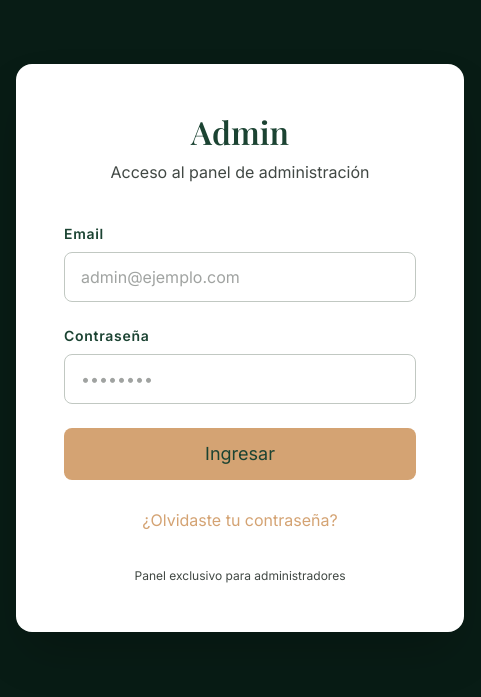
Test: LoginPage › Password reset › shows error when email is empty on reset
The image size is (481, 697).
Note: Click forgot password without entering email
Click the button "¿Olvidaste tu contraseña?": x=240, y=520 [64, 496, 416, 544]
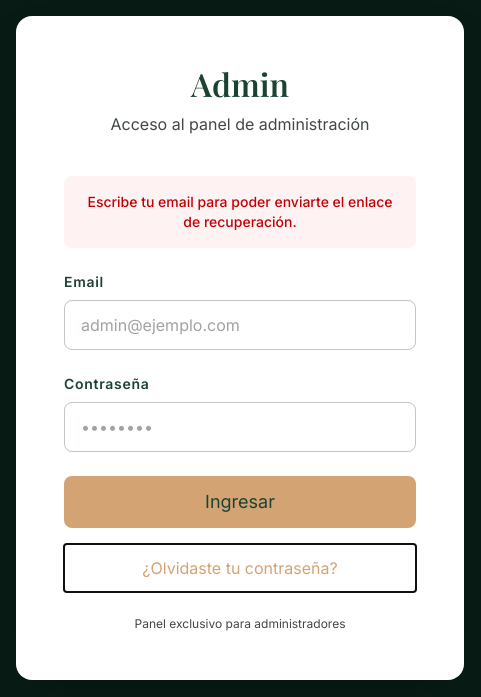
Expected: the text "Escribe tu email para poder enviarte el enlace de recuperación." is shown, [64, 176, 416, 248]
